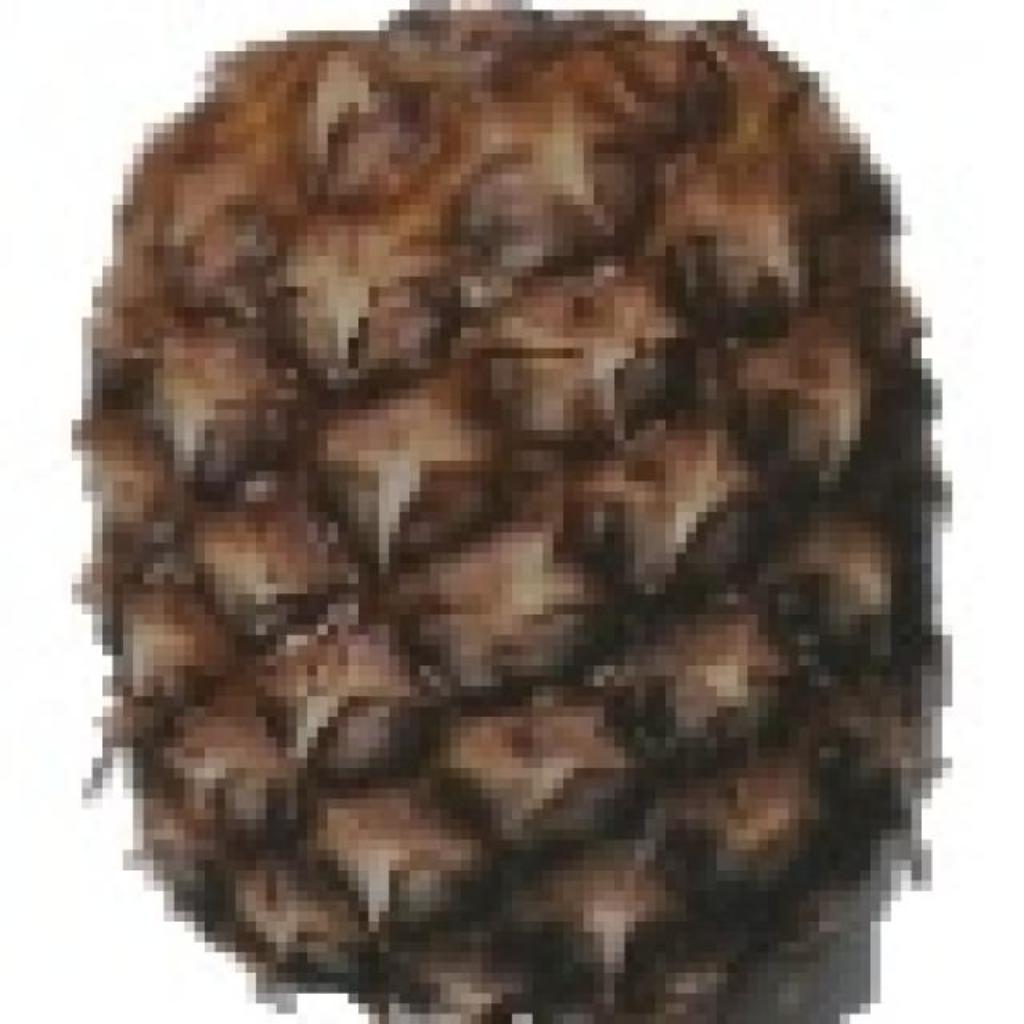pineapple: (72, 0, 922, 1004)
